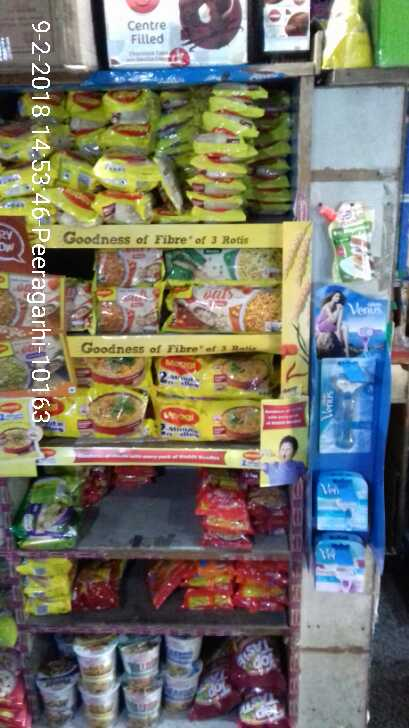venus: (319, 358, 371, 457), (308, 533, 370, 600), (308, 473, 370, 526)
